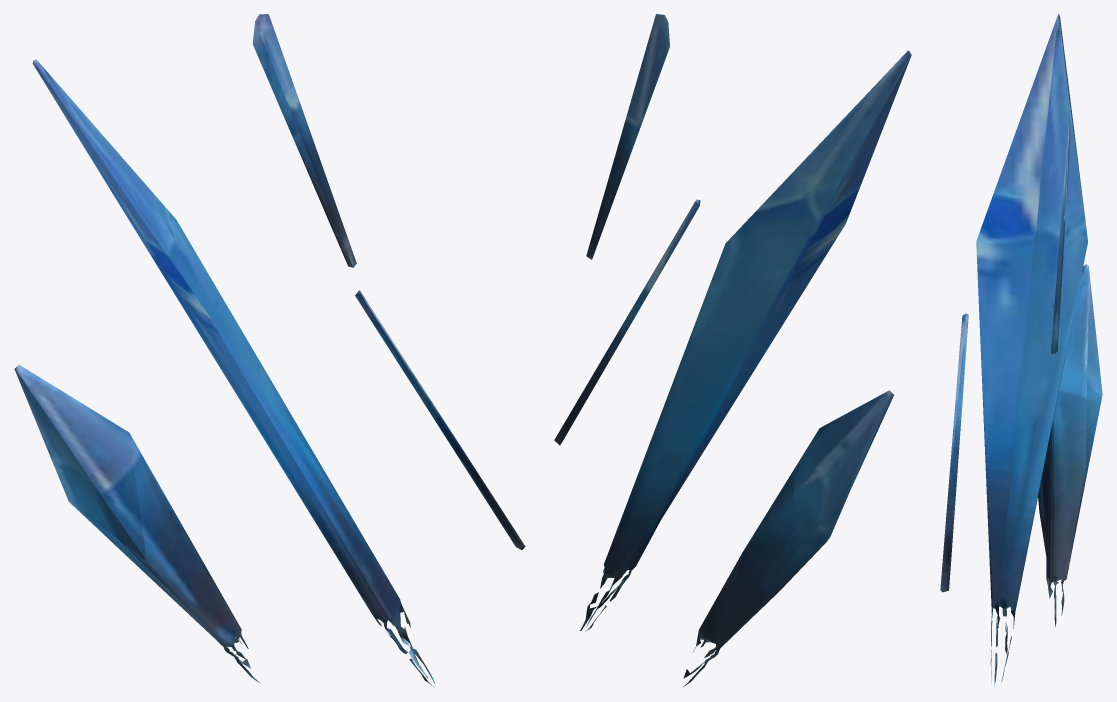
The model's file is proj_ice.glb.
3 views of the same model, side by side, from view 1: azimuth 30°, elevation 25°; view 2: azimuth 150°, elevation 25°; view 3: azimuth 270°, elevation 25° (orthographic). The views are drawn at different scales.
Visible parts, largest first — view 1: Ice attack; view 2: Ice attack; view 3: Ice attack.
Boxes of the visible parts, bbox=[...] form: Ice attack: bbox=[14, 14, 525, 687]; Ice attack: bbox=[554, 14, 911, 687]; Ice attack: bbox=[940, 14, 1102, 686].
Size of the model in its own units: 1.23 by 1.93 by 0.5286.
Materials: 1 (1 with a texture image).
